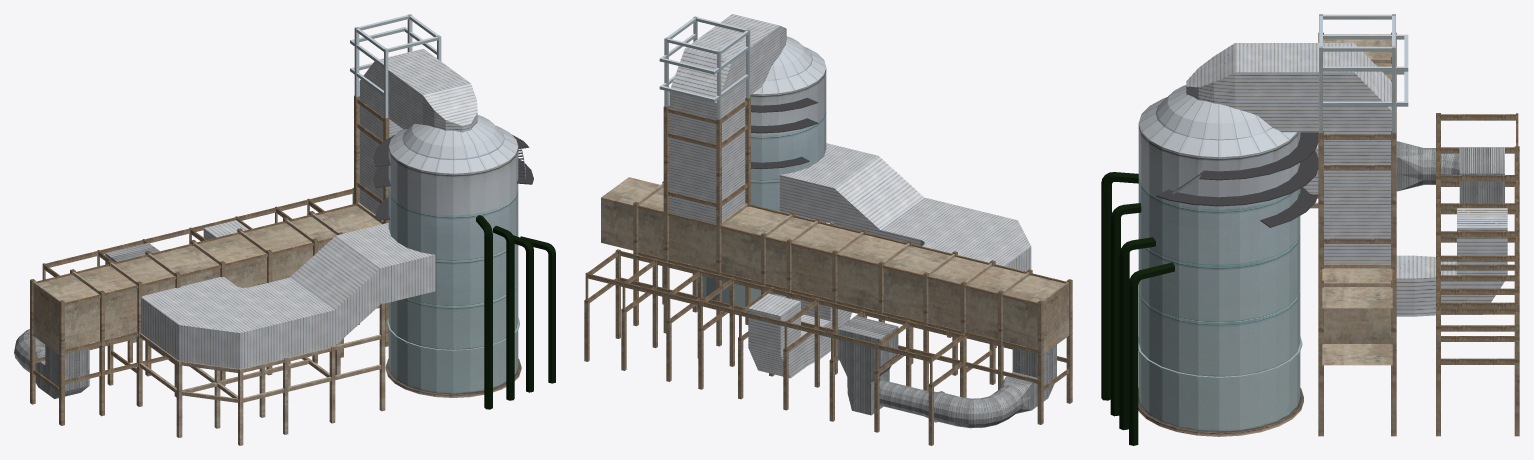
The model's file is huanbao.FBX.
3 views of the same model, side by side, from view 1: azimuth 30°, elevation 25°; view 2: azimuth 150°, elevation 25°; view 3: azimuth 270°, elevation 25° (orthographic). The views are drawn at different scales.
Parts seen in each view (by area): view 1: 21, 23, 19, 20, 22, 25, 27, 8, 24, 1, 4; view 2: 21, 20, 19, 8, 22, 23, 1, 24, 4; view 3: 23, 21, 20, 22, 27, 19, 8, 4, 1, 24.
Part boxes in pixels (x1,y1,x2,y2): 21: (141,48,477,368); 23: (385,188,521,397); 19: (37,206,381,349); 20: (30,95,389,425); 22: (388,115,518,215); 25: (139,302,385,445); 27: (476,215,555,409); 8: (14,243,159,398); 24: (33,202,383,354); 1: (350,14,441,118); 4: (373,134,533,220); 21: (669,14,1031,378); 20: (584,97,1072,445); 19: (601,177,1064,349); 8: (838,316,1056,428); 22: (750,36,826,135); 23: (703,109,826,313); 1: (659,16,750,119); 24: (637,183,1069,353); 4: (751,97,818,169); 23: (1138,175,1303,436); 21: (1186,43,1507,316); 20: (1318,32,1519,436); 22: (1138,85,1300,209); 27: (1101,172,1174,445); 19: (1322,39,1392,365); 8: (1396,141,1504,203); 4: (1156,132,1318,227); 1: (1319,14,1408,132); 24: (1324,34,1390,343).
Size of the model in its own units: 436 by 280 by 285.
